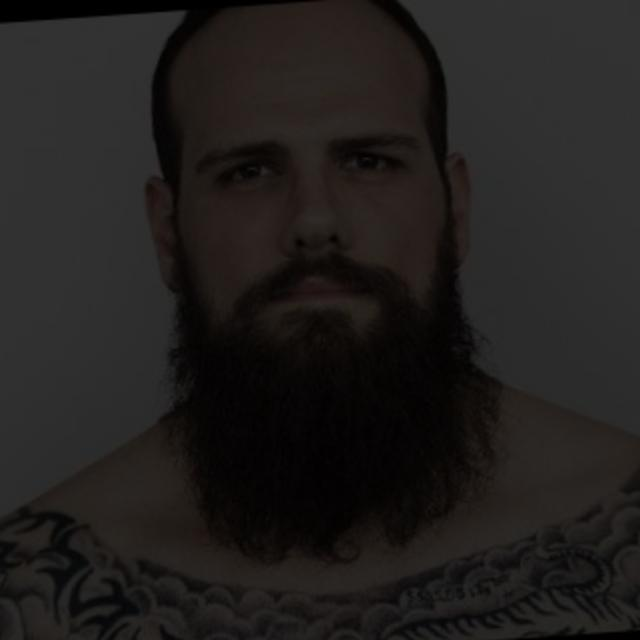Natural: (109, 73, 436, 388)
